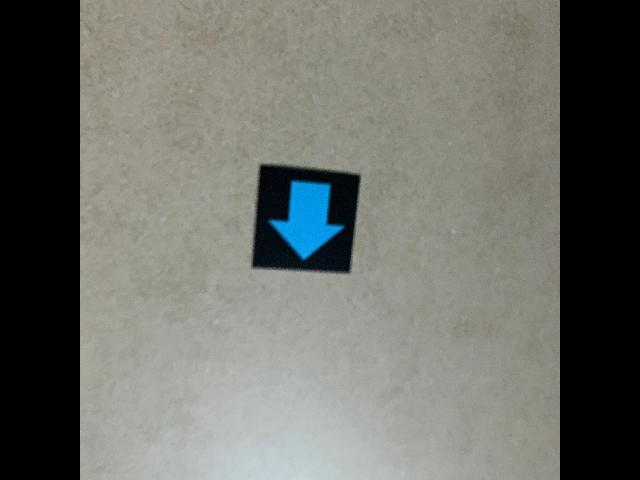down_arrow: (249, 160, 362, 277)
